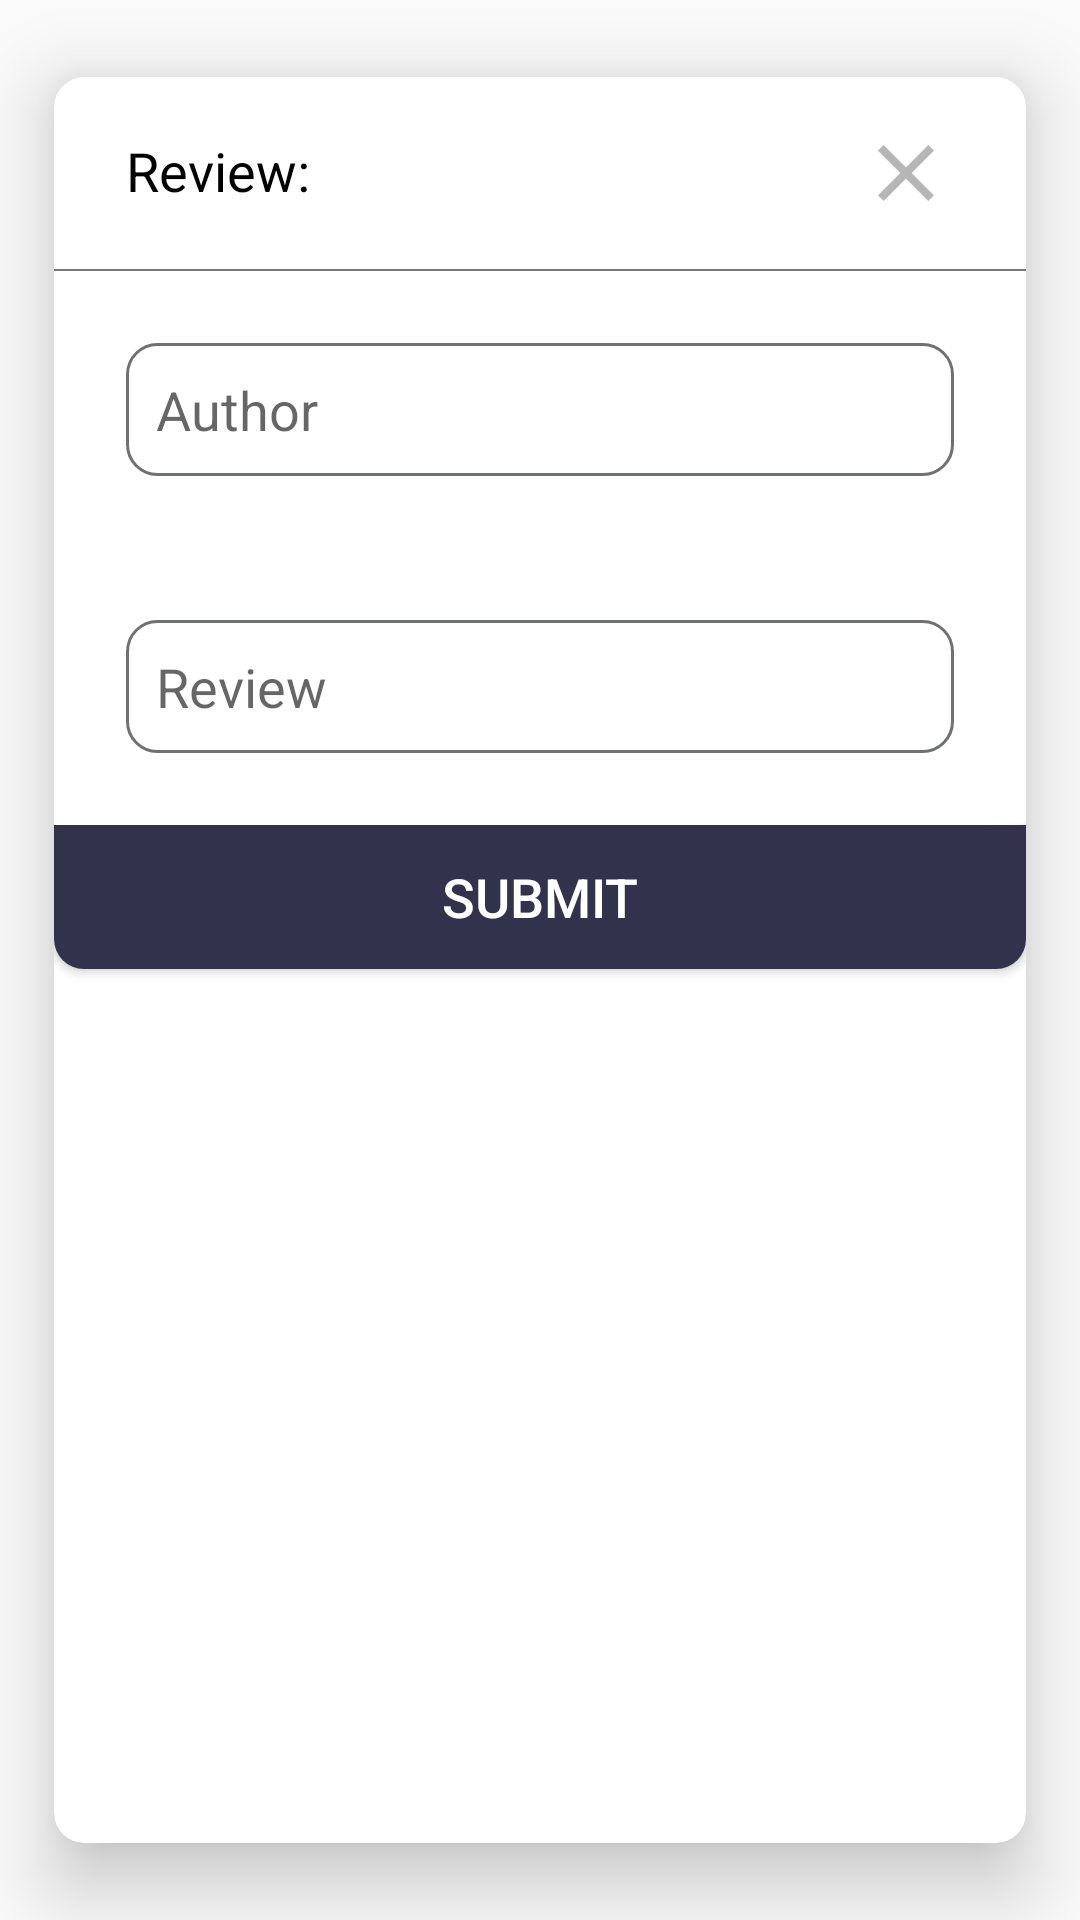

Screen size 1080*1920. Icon name, then its box in pixels as (x1, y1, x2, y2):
cross: (878, 145, 934, 201)
